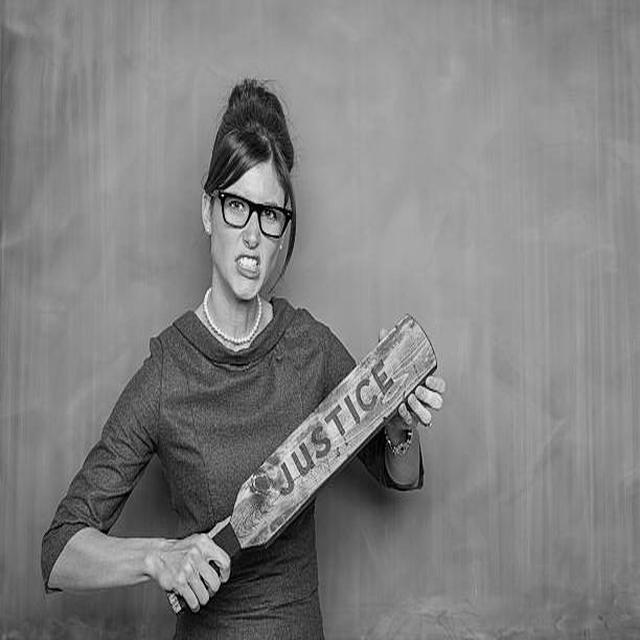Angry: (210, 164, 285, 300)
